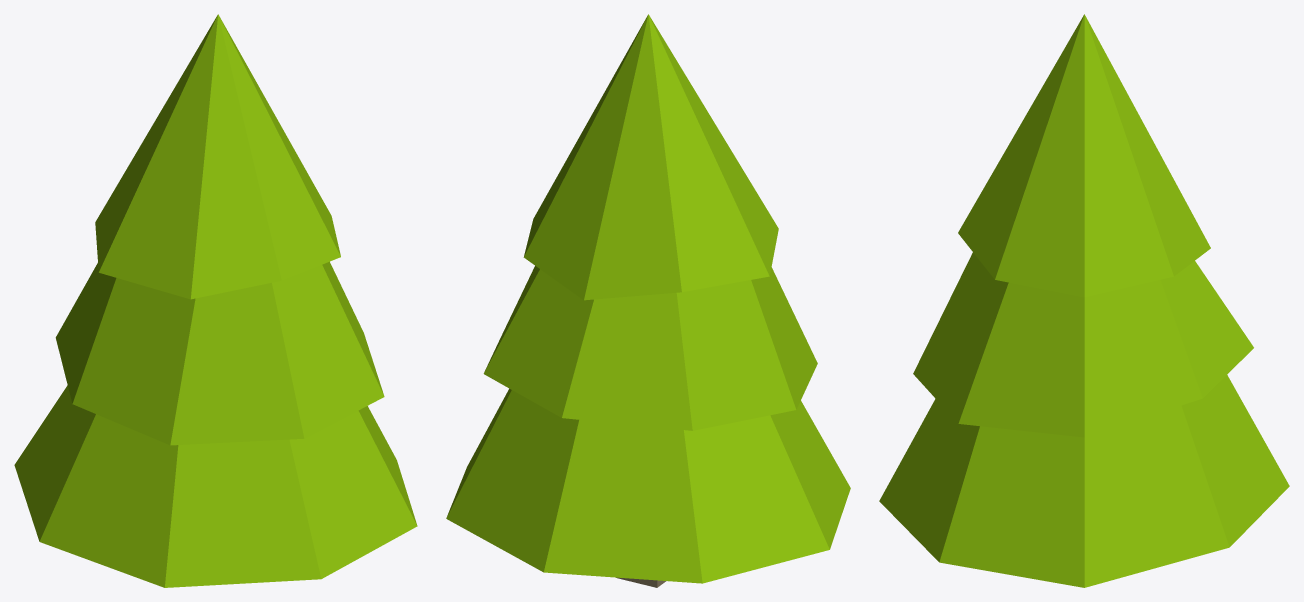
Rendered from pine_skewed_2.fbx.
3 views of the same model, side by side, from view 1: azimuth 30°, elevation 25°; view 2: azimuth 150°, elevation 25°; view 3: azimuth 270°, elevation 25° (orthographic). The views are drawn at different scales.
Visible parts, largest first — view 1: pine_skewed_2; view 2: pine_skewed_2; view 3: pine_skewed_2.
Part boxes in pixels (left/top/right/bottom): pine_skewed_2: left=14, top=14, right=417, bottom=587; pine_skewed_2: left=446, top=14, right=850, bottom=587; pine_skewed_2: left=879, top=14, right=1289, bottom=587.
Bounding box in the file's own units: 184 × 271 × 184.
